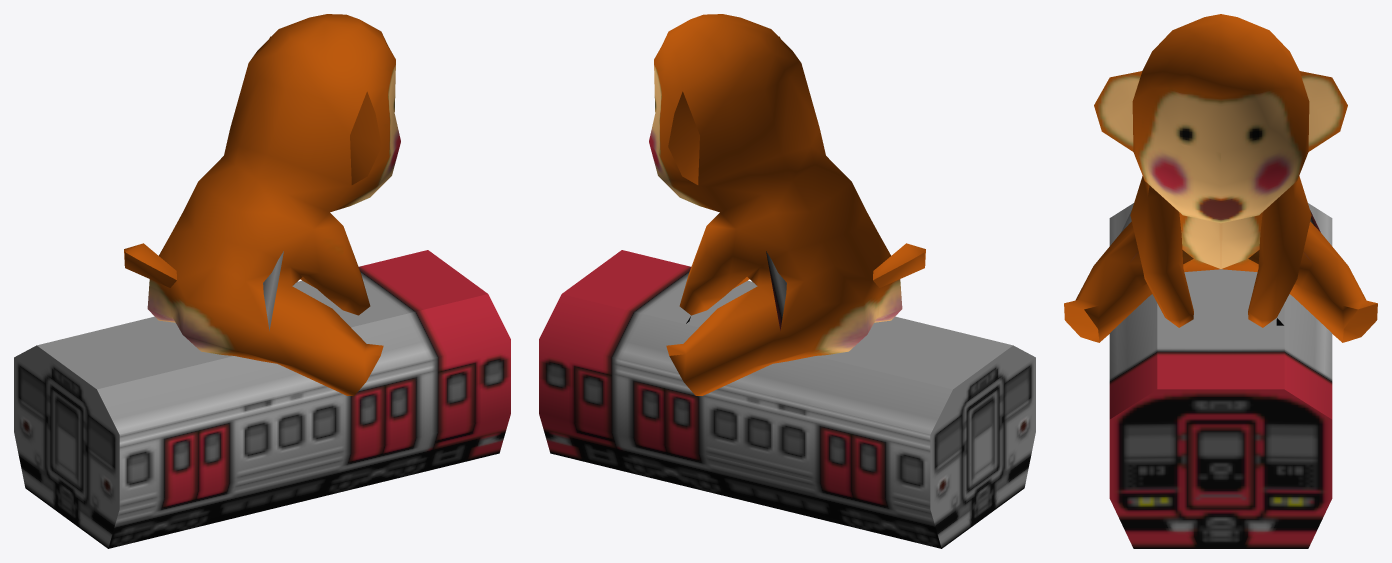
File: ICON.obj
3 views of the same model, side by side, from view 1: azimuth 30°, elevation 25°; view 2: azimuth 150°, elevation 25°; view 3: azimuth 270°, elevation 25° (orthographic). The views are drawn at different scales.
Size of the model in its own units: 3 by 3.18 by 1.98.
Materials: 1 (1 with a texture image).
